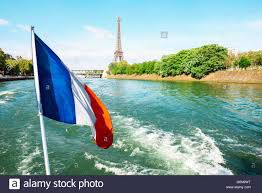French Flag: (34, 34, 113, 148)
